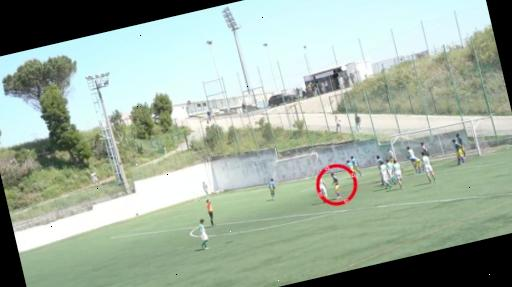highlight_overlay: (309, 156, 362, 210)
